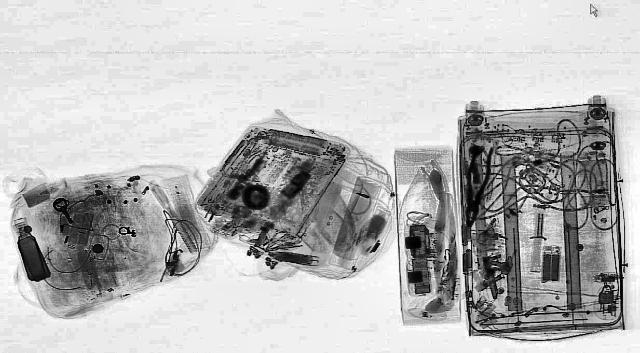Pliers: (453, 147, 497, 227)
